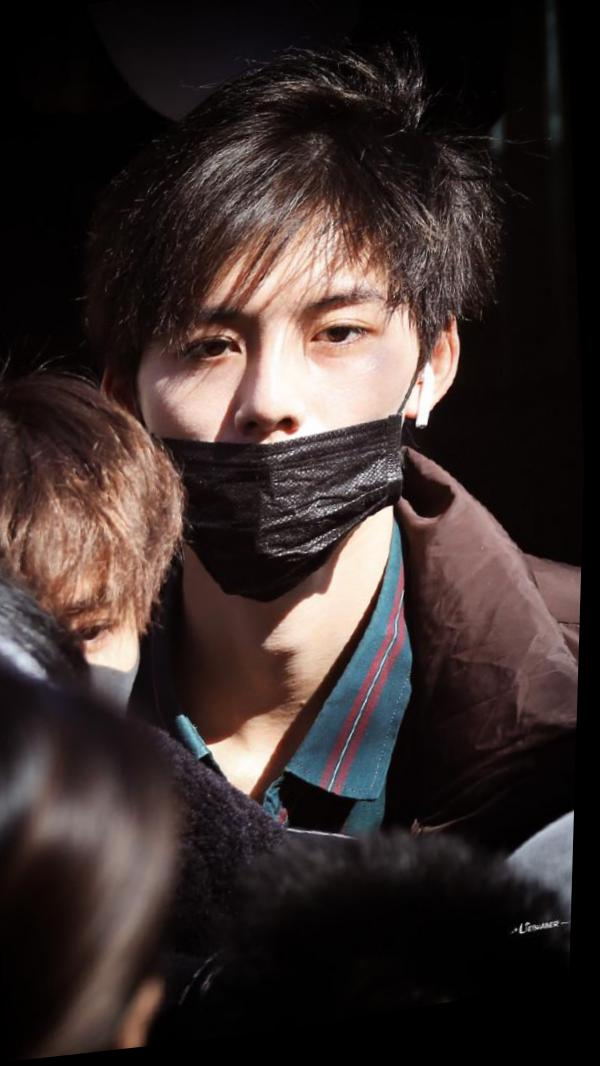WRONG: (130, 225, 439, 622)
